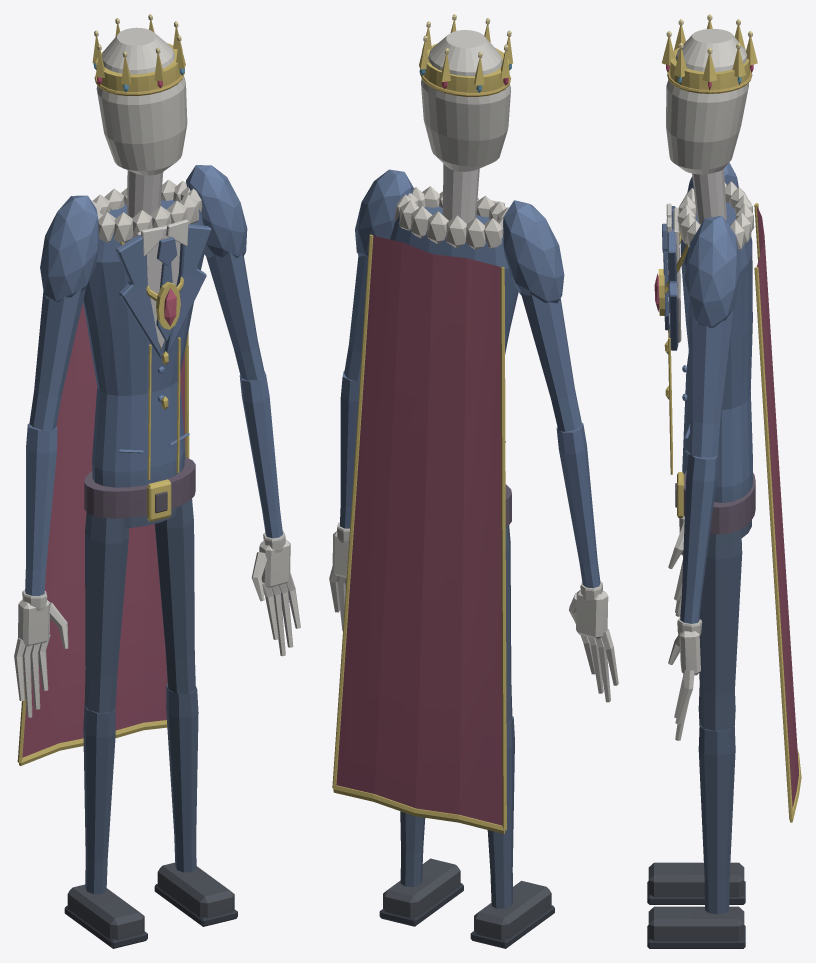
Rendered from SlendermanKing.glb.
3 views of the same model, side by side, from view 1: azimuth 30°, elevation 25°; view 2: azimuth 150°, elevation 25°; view 3: azimuth 270°, elevation 25° (orthographic).
Visible parts, largest first — view 1: Body, ArmR, LegR, ArmL, LegL, Head; view 2: Body, ArmR, Head, ArmL, LegR, LegL; view 3: Body, LegL, ArmL, Head, LegR, ArmR.
Boxes of the visible parts, x1,y1,x2,y2 form: Body: (17, 170, 211, 765); ArmR: (14, 195, 99, 717); LegR: (64, 512, 147, 948); ArmL: (186, 165, 300, 656); LegL: (154, 499, 237, 926); Head: (92, 14, 187, 175); Body: (332, 164, 518, 833); ArmR: (503, 200, 618, 702); Head: (419, 14, 513, 171); ArmL: (329, 169, 413, 630); LegR: (470, 525, 554, 948); LegL: (379, 811, 463, 926); Body: (654, 168, 801, 822); LegL: (647, 529, 745, 948); ArmL: (668, 215, 740, 740); Head: (662, 14, 757, 174); LegR: (647, 688, 745, 904); ArmR: (668, 162, 738, 616).
Size of the model in its own units: 2.68 by 8.06 by 1.27.
